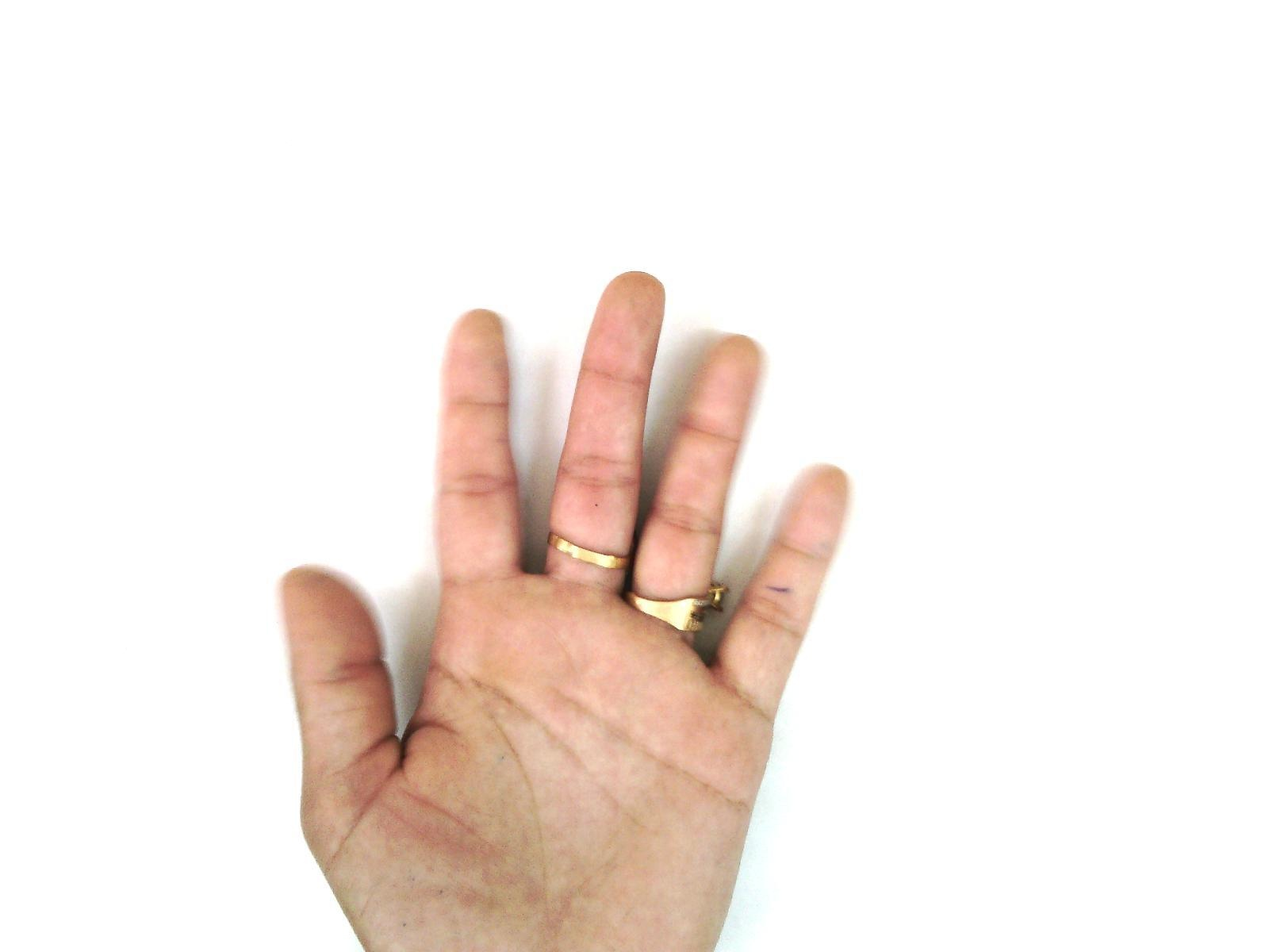open_palm: (275, 269, 854, 951)
